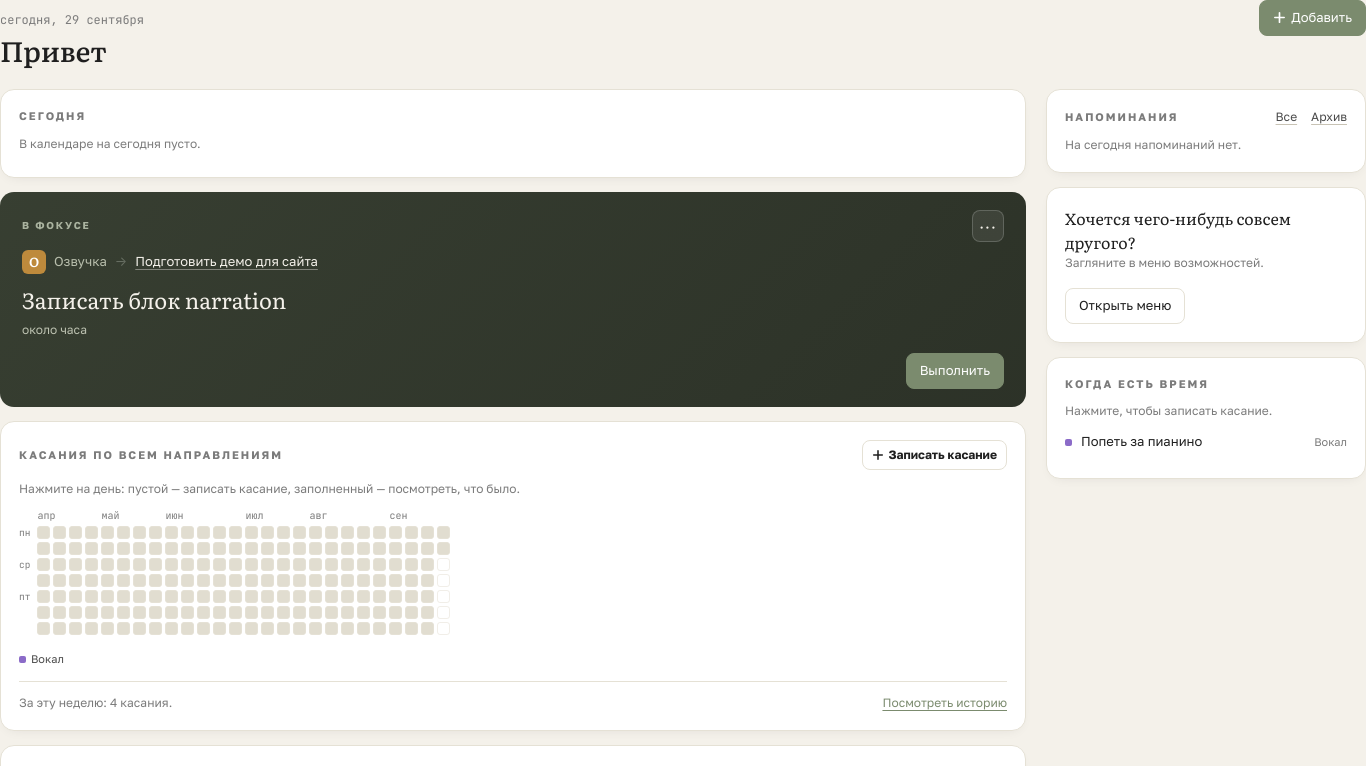
главная: привычки › клик по привычке открывает запись касания с её направлением и названием
The width and height of the screenshot is (1366, 766).
Click the button "Попеть за пианино Вокал" at (1142, 441), box x1=1065 y1=424 x2=1347 y2=460
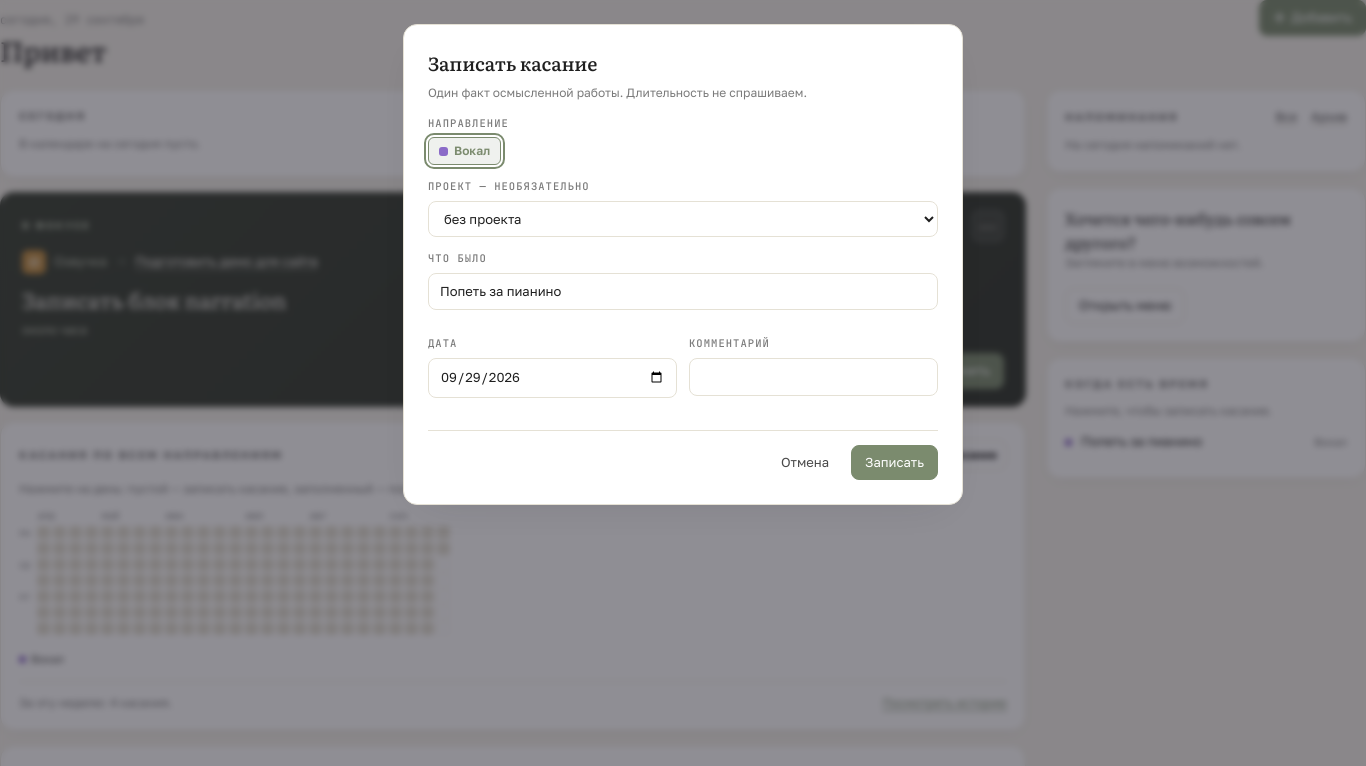
Now the field showing "Попеть за пианино" is shown, box x1=428 y1=273 x2=938 y2=310
Now the date field labelled "Дата" holds "2026-09-29", box x1=428 y1=358 x2=677 y2=398
